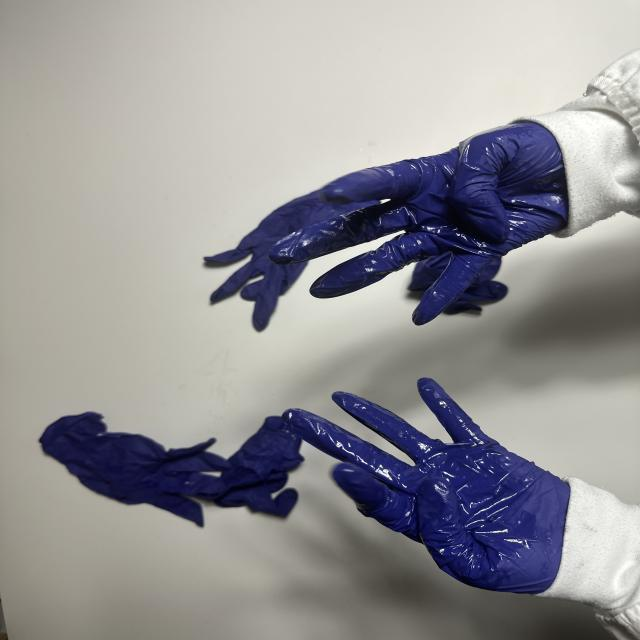gloves_contaminated: (285, 378, 570, 594), (270, 123, 568, 324)
